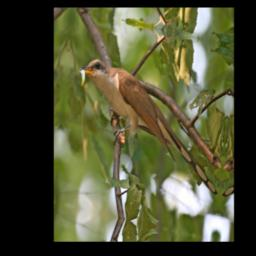Cuckoo: (68, 53, 229, 197)
